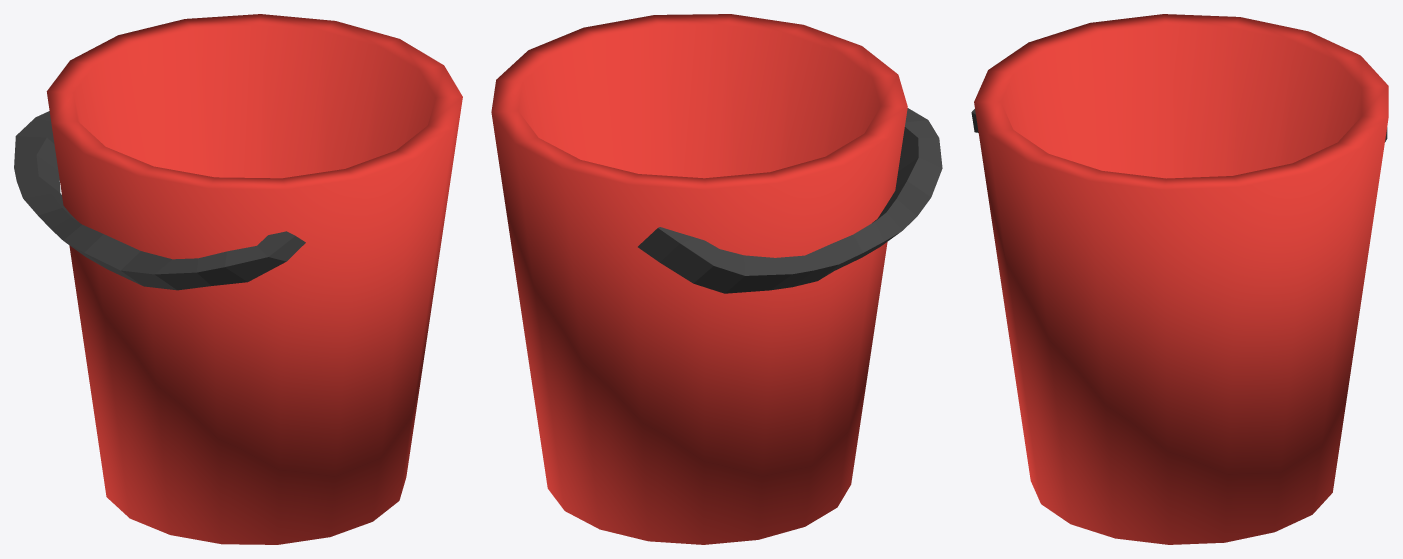
The model's file is balde_1.fbx.
The picture shows the model from 3 angles, left to right: view 1: azimuth 30°, elevation 25°; view 2: azimuth 150°, elevation 25°; view 3: azimuth 270°, elevation 25°; orthographic projection.
Parts seen in each view (by area): view 1: Cylinder, Cube; view 2: Cylinder, Cube; view 3: Cylinder.
Part boxes in pixels (box(x1,y1,x2,y2)): Cylinder: box(46, 14, 462, 544); Cube: box(14, 111, 305, 290); Cylinder: box(491, 14, 907, 544); Cube: box(638, 108, 942, 293); Cylinder: box(974, 14, 1388, 544).
Size of the model in its own units: 1005 by 964 by 961.
